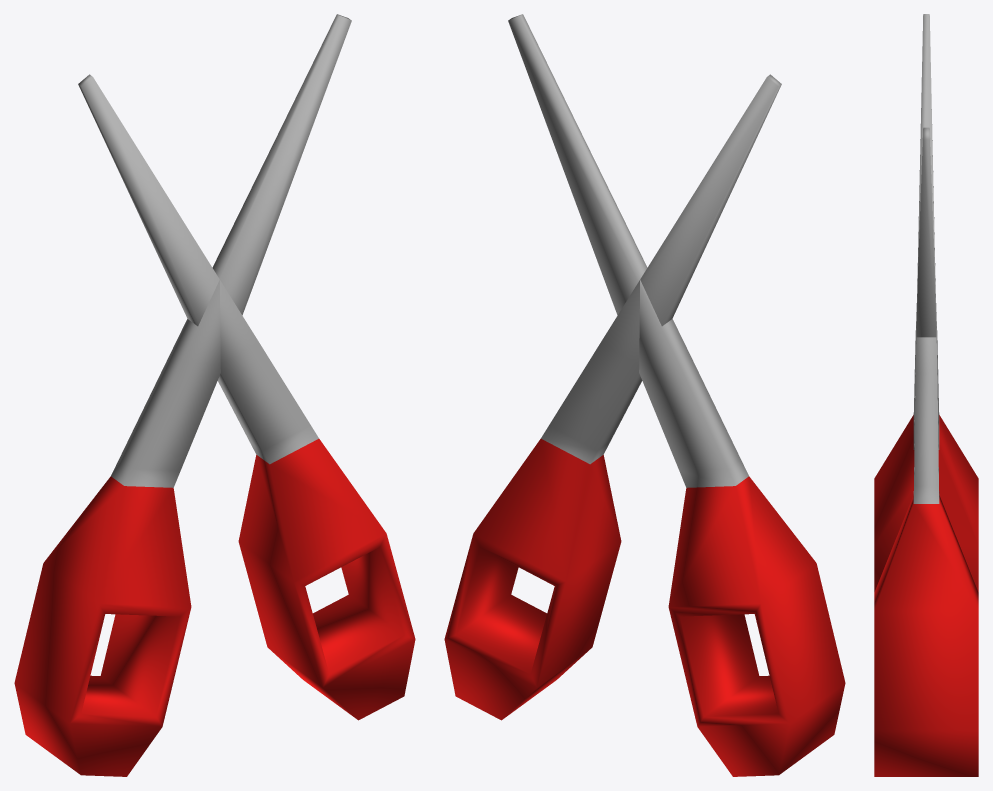
The model's file is scissor.fbx.
3 views of the same model, side by side, from view 1: azimuth 30°, elevation 25°; view 2: azimuth 150°, elevation 25°; view 3: azimuth 270°, elevation 25° (orthographic). The views are drawn at different scales.
Visible parts, largest first — view 1: Cube; view 2: Cube; view 3: Cube.
Boxes of the visible parts, x1=… form: Cube: x1=14, y1=14, x2=415, y2=776; Cube: x1=444, y1=14, x2=845, y2=776; Cube: x1=874, y1=14, x2=978, y2=776.
Size of the model in its own units: 7.2 by 13.6 by 2.
